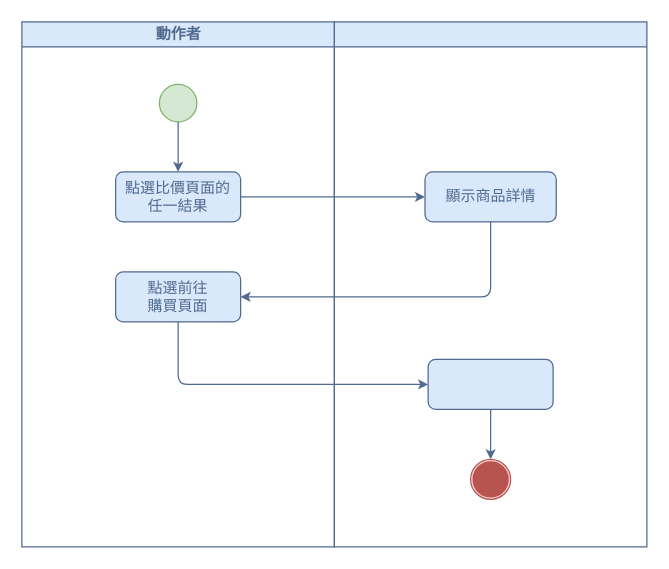
Image size: 669x569. Some labels were removed from this diagram. The box of each missing label's shape, as (x1, y1, x2, y2) in pixels:
將使用者導向到 原購買頁面: (427, 358, 553, 409)
系統: (333, 21, 647, 547)
